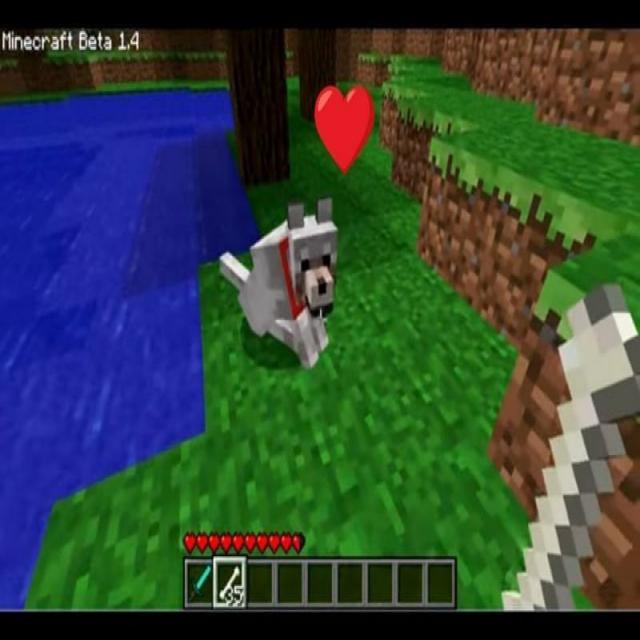Wolf: (216, 188, 340, 377)
